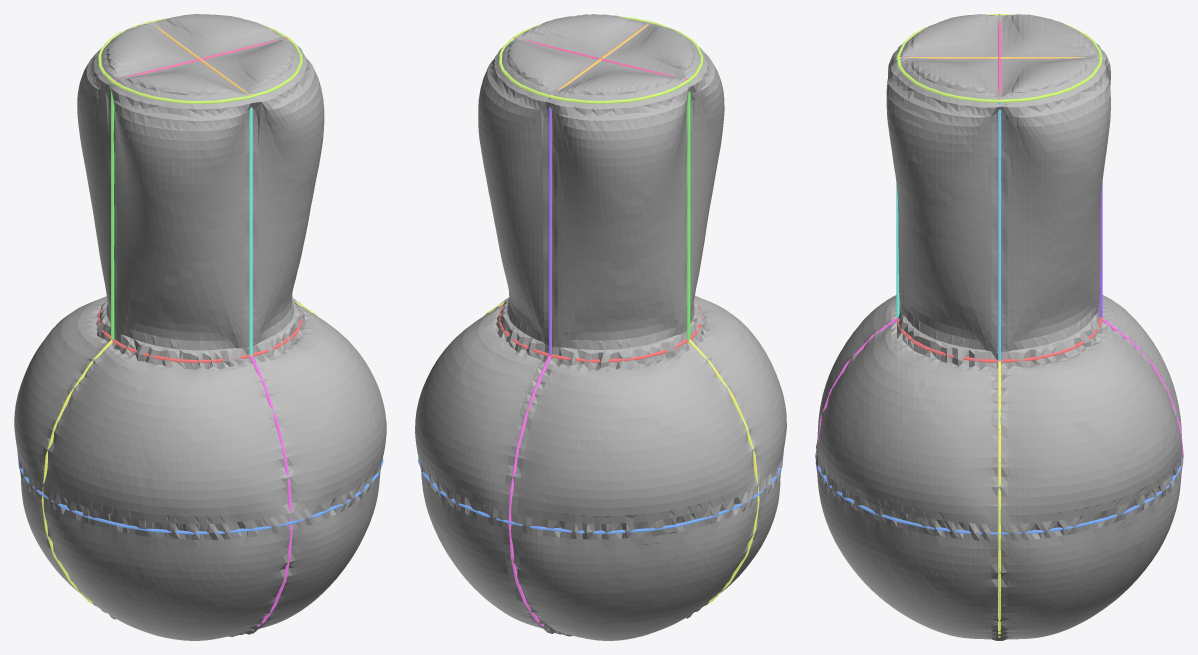
File: flowrep_spherecylinder.gltf
3 renders of one model, left to right at view 1: azimuth 30°, elevation 25°; view 2: azimuth 150°, elevation 25°; view 3: azimuth 270°, elevation 25°, orthographic.
Bounding box in the file's own units: 0.4565 × 0.7853 × 0.4564.
